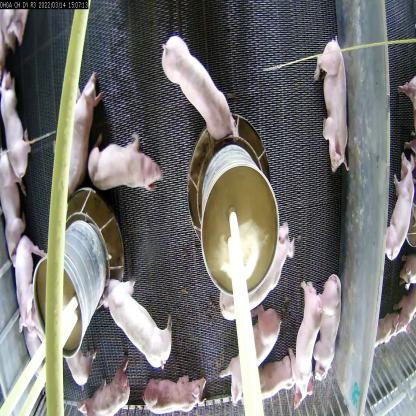Pig: (88, 248, 178, 377), (212, 225, 295, 321), (160, 32, 232, 140), (50, 66, 97, 198), (85, 124, 163, 200), (316, 36, 354, 180), (226, 314, 282, 400), (134, 365, 216, 416), (233, 348, 308, 403), (0, 74, 35, 185), (311, 275, 341, 385), (9, 230, 38, 332), (0, 140, 24, 259), (297, 288, 321, 402)
